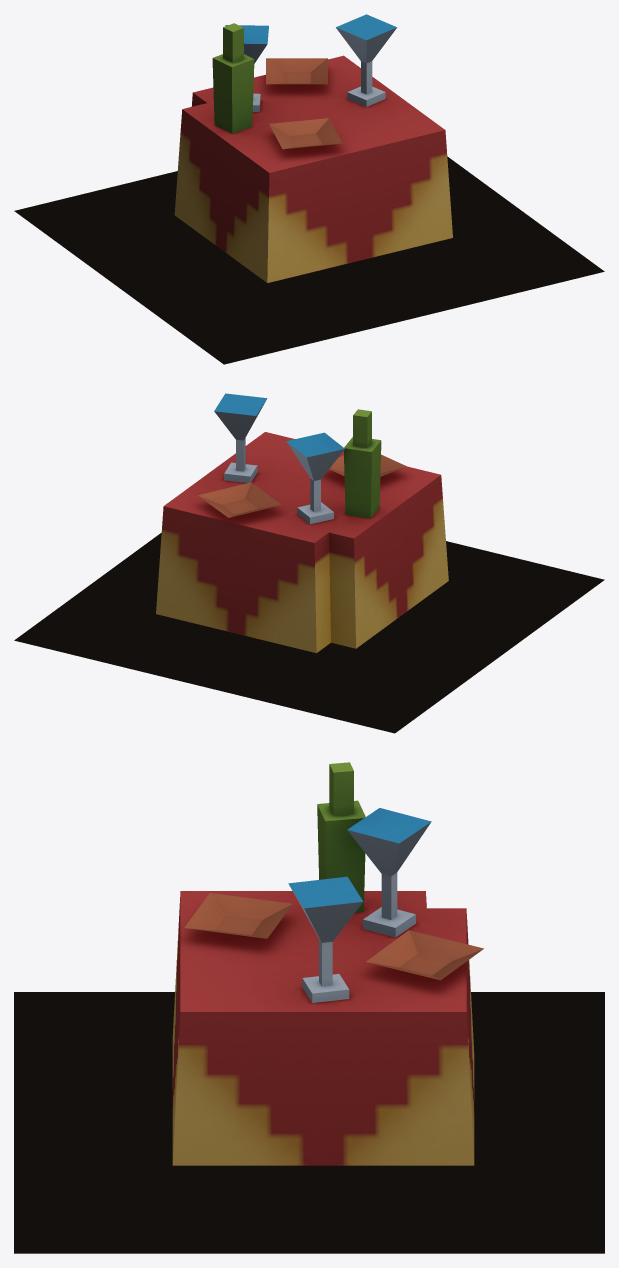
Rendered from ballroom_death_floor_corner.FBX.
The picture shows the model from 3 angles, top to bottom: view 1: azimuth 30°, elevation 25°; view 2: azimuth 150°, elevation 25°; view 3: azimuth 270°, elevation 25°; orthographic projection. The views are drawn at different scales.
Parts seen in each view (by area): view 1: ballroom_death_floor_corner, ballroom_death_floor_corner_soft_shadow; view 2: ballroom_death_floor_corner, ballroom_death_floor_corner_soft_shadow; view 3: ballroom_death_floor_corner_soft_shadow, ballroom_death_floor_corner.
Part boxes in pixels (x1,y1,x2,y2): ballroom_death_floor_corner: (174, 14, 452, 282); ballroom_death_floor_corner_soft_shadow: (14, 156, 604, 364); ballroom_death_floor_corner: (156, 393, 448, 653); ballroom_death_floor_corner_soft_shadow: (14, 533, 604, 733); ballroom_death_floor_corner_soft_shadow: (14, 992, 604, 1253); ballroom_death_floor_corner: (172, 762, 483, 1165).
Size of the model in its own units: 1776 by 985 by 1696.
